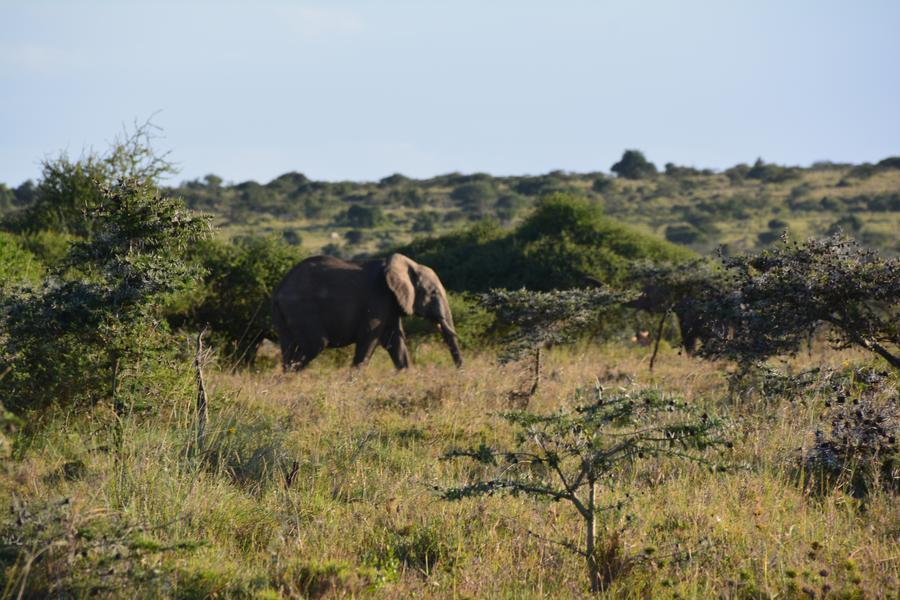elephant: (270, 250, 464, 370)
